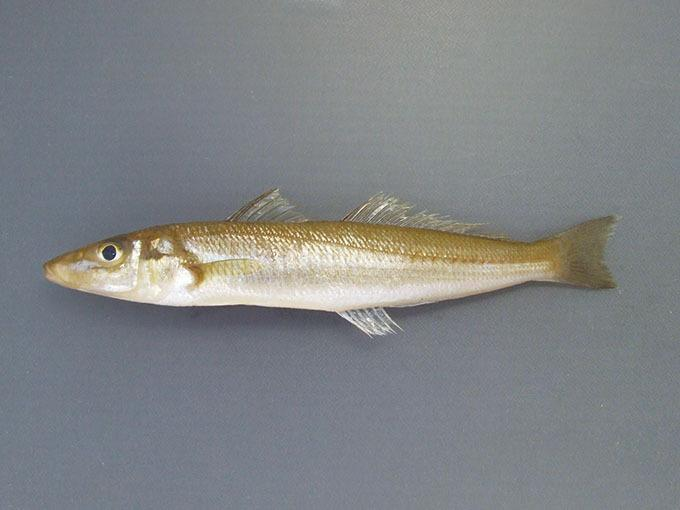kiss: (42, 190, 627, 340)
